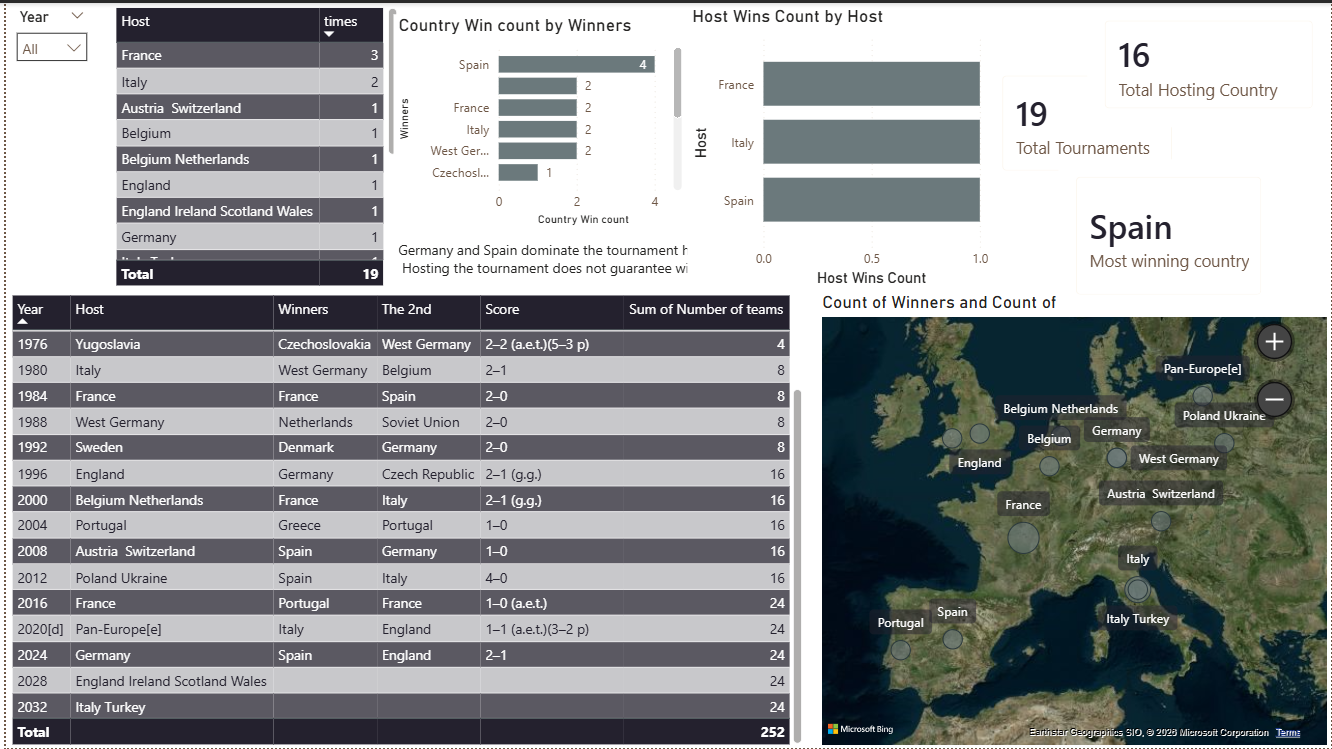

What the dashboard file says about the page in this screenshot:
{"tool":"powerbi","page":{"name":"Page 1","canvas":[1280,720],"ordinal":0},"visuals":[{"type":"tableEx","fields":{"Values":["Table 3 (2).Year","Table 3 (2).Host","Table 3 (2).Winners","Table 3 (2).The 2nd","Table 3 (2).Score","Sum(Table 3 (2).Number of teams)"]},"box":[0,277.7,773.9,443.1],"z":0},{"type":"map","fields":{"Category":["Table 3 (2).Host"],"Size":["CountNonNull(Table 3 (2).Winners)"]},"box":[783.5,278.6,496.7,441.9],"z":1000},{"type":"actionButton","box":[0,0,100,40],"z":2000},{"type":"slicer","fields":{"Values":["Table 3 (2).Year"]},"box":[0,0,88.1,255.9],"z":3000},{"type":"tableEx","fields":{"Values":["Table 3 (2).Host","select","Table 3 (2).Measure"]},"box":[100.2,0,282.5,277.7],"z":4000},{"type":"clusteredBarChart","fields":{"Category":["Table 3 (2).Winners"],"Y":["CountNonNull(Table 3 (2).Winners)"]},"box":[374.3,10.9,283.7,208.9],"z":5000},{"type":"cardVisual","fields":{"Data":["CountNonNull(Table 3 (2).Host)"]},"box":[945,52.7,198.1,126.9],"z":7000},{"type":"cardVisual","fields":{"Data":["Table 3 (2).Most winning country"]},"box":[1016.3,151.1,213.8,148.2],"z":8000},{"type":"textbox","box":[374.3,224.6,373,51.9],"z":9000},{"type":"barChart","fields":{"Category":["Table 3 (2).Host"],"Y":["Table 3 (2).Host Wins Count"]},"box":[658,2.4,295.8,276.5],"z":10000},{"type":"cardVisual","fields":{"Data":["Count(Table 3 (2).Host)"]},"box":[1044.8,0,235.2,119.7],"z":10500}]}

Visuals, with their boxes in screenshot pixels (x1, y1, x2, y2), scaled from the page's 1280x720 canvas onto the 1332x749 screenshot:
tableEx - Table 3 (2).Year x Table 3 (2).Host: [0,289,805,748]
map - Table 3 (2).Host x CountNonNull(Table 3 (2).Winners): [815,290,1331,748]
actionButton: [0,0,104,42]
slicer - Table 3 (2).Year: [0,0,92,266]
tableEx - Table 3 (2).Host x select: [104,0,398,289]
clusteredBarChart - Table 3 (2).Winners x CountNonNull(Table 3 (2).Winners): [390,11,685,229]
cardVisual - CountNonNull(Table 3 (2).Host): [983,55,1190,187]
cardVisual - Table 3 (2).Most winning country: [1058,157,1280,311]
textbox: [390,234,778,288]
barChart - Table 3 (2).Host x Table 3 (2).Host Wins Count: [685,2,993,290]
cardVisual - Count(Table 3 (2).Host): [1087,0,1331,125]
